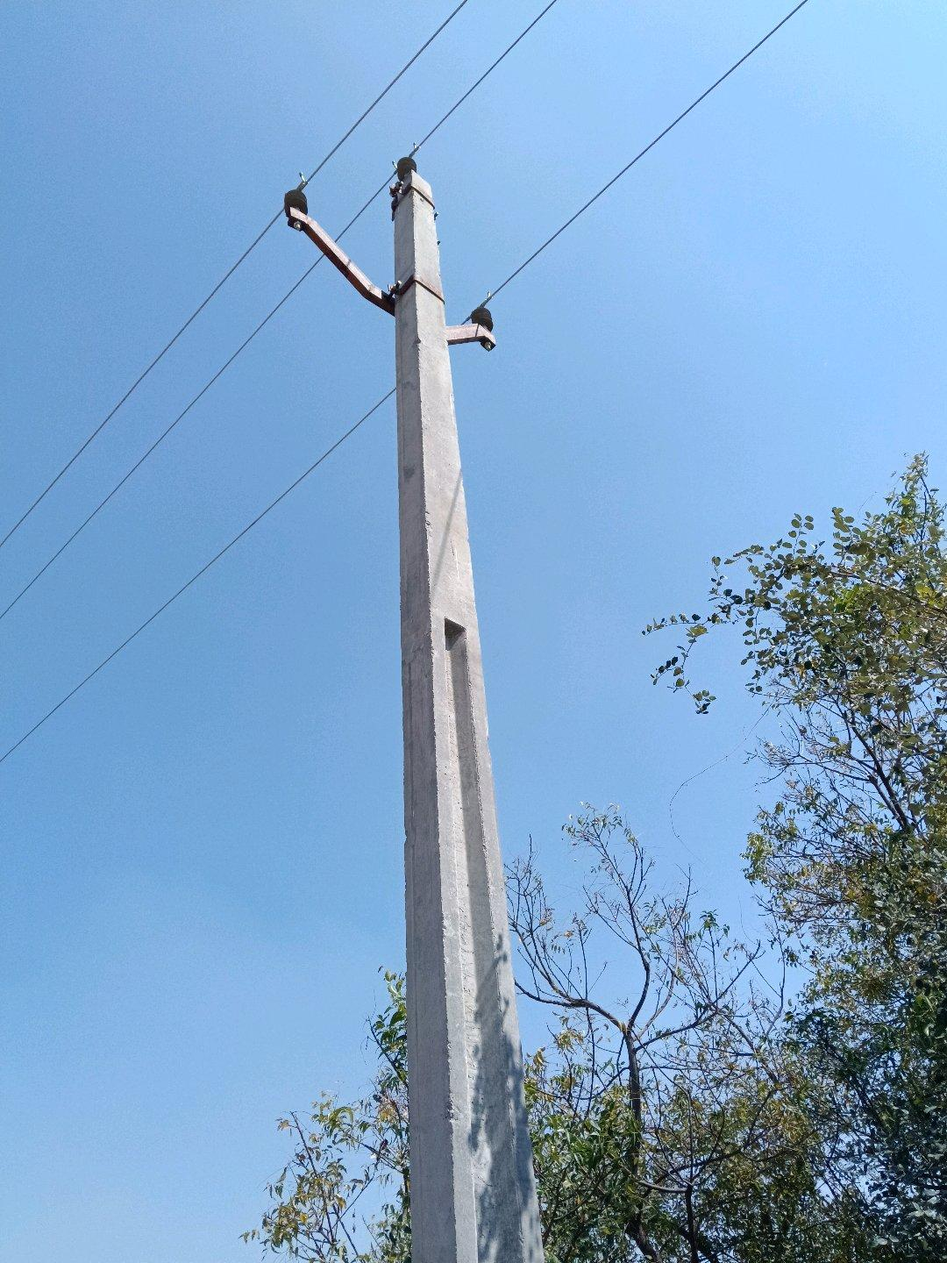{"0" "insulator", "1" "pole", "2" "crossarm", "3" "conductor", "4" "street_: (284, 158, 539, 1262)
